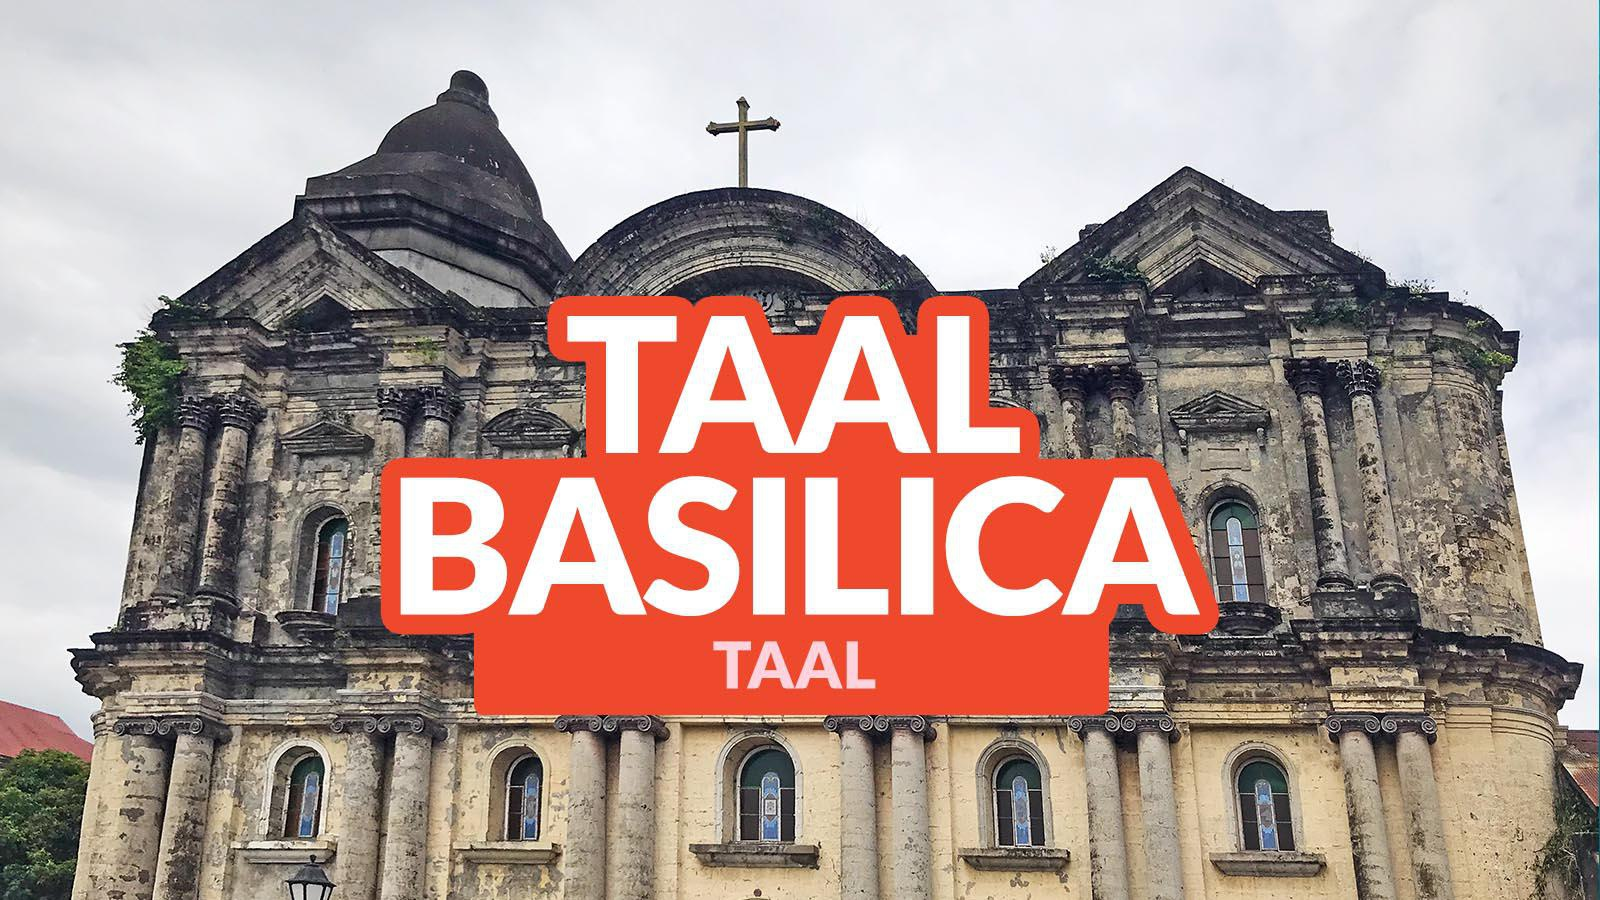taal_basilica_church_taal_batangas: (77, 48, 1573, 900)
